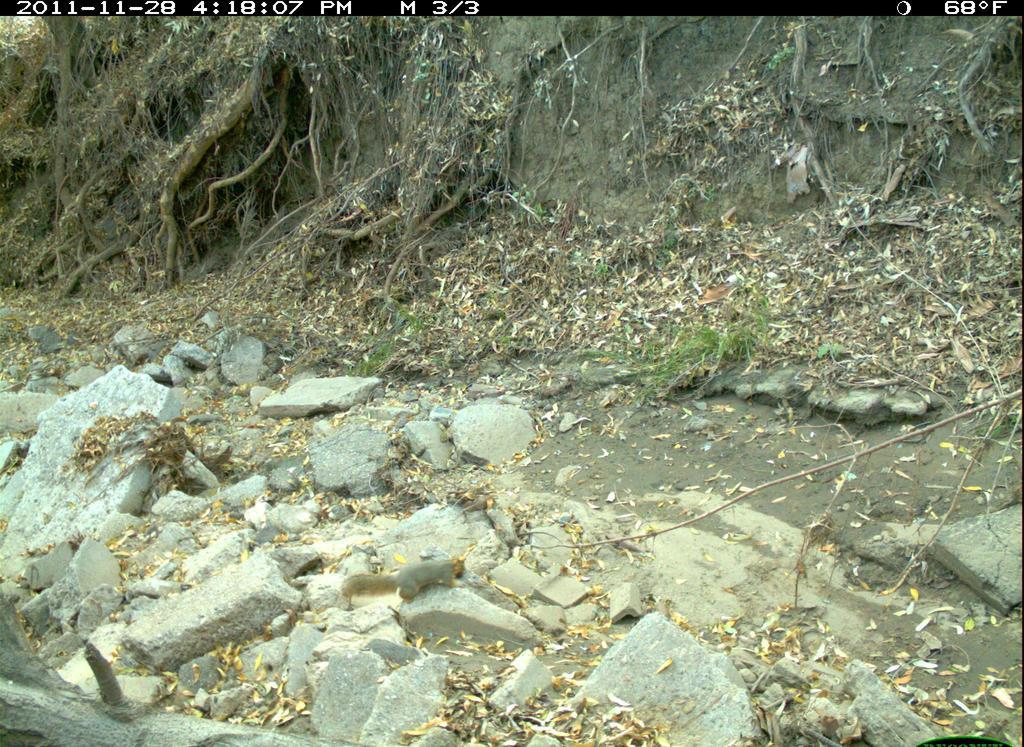squirrel: (342, 548, 473, 615)
